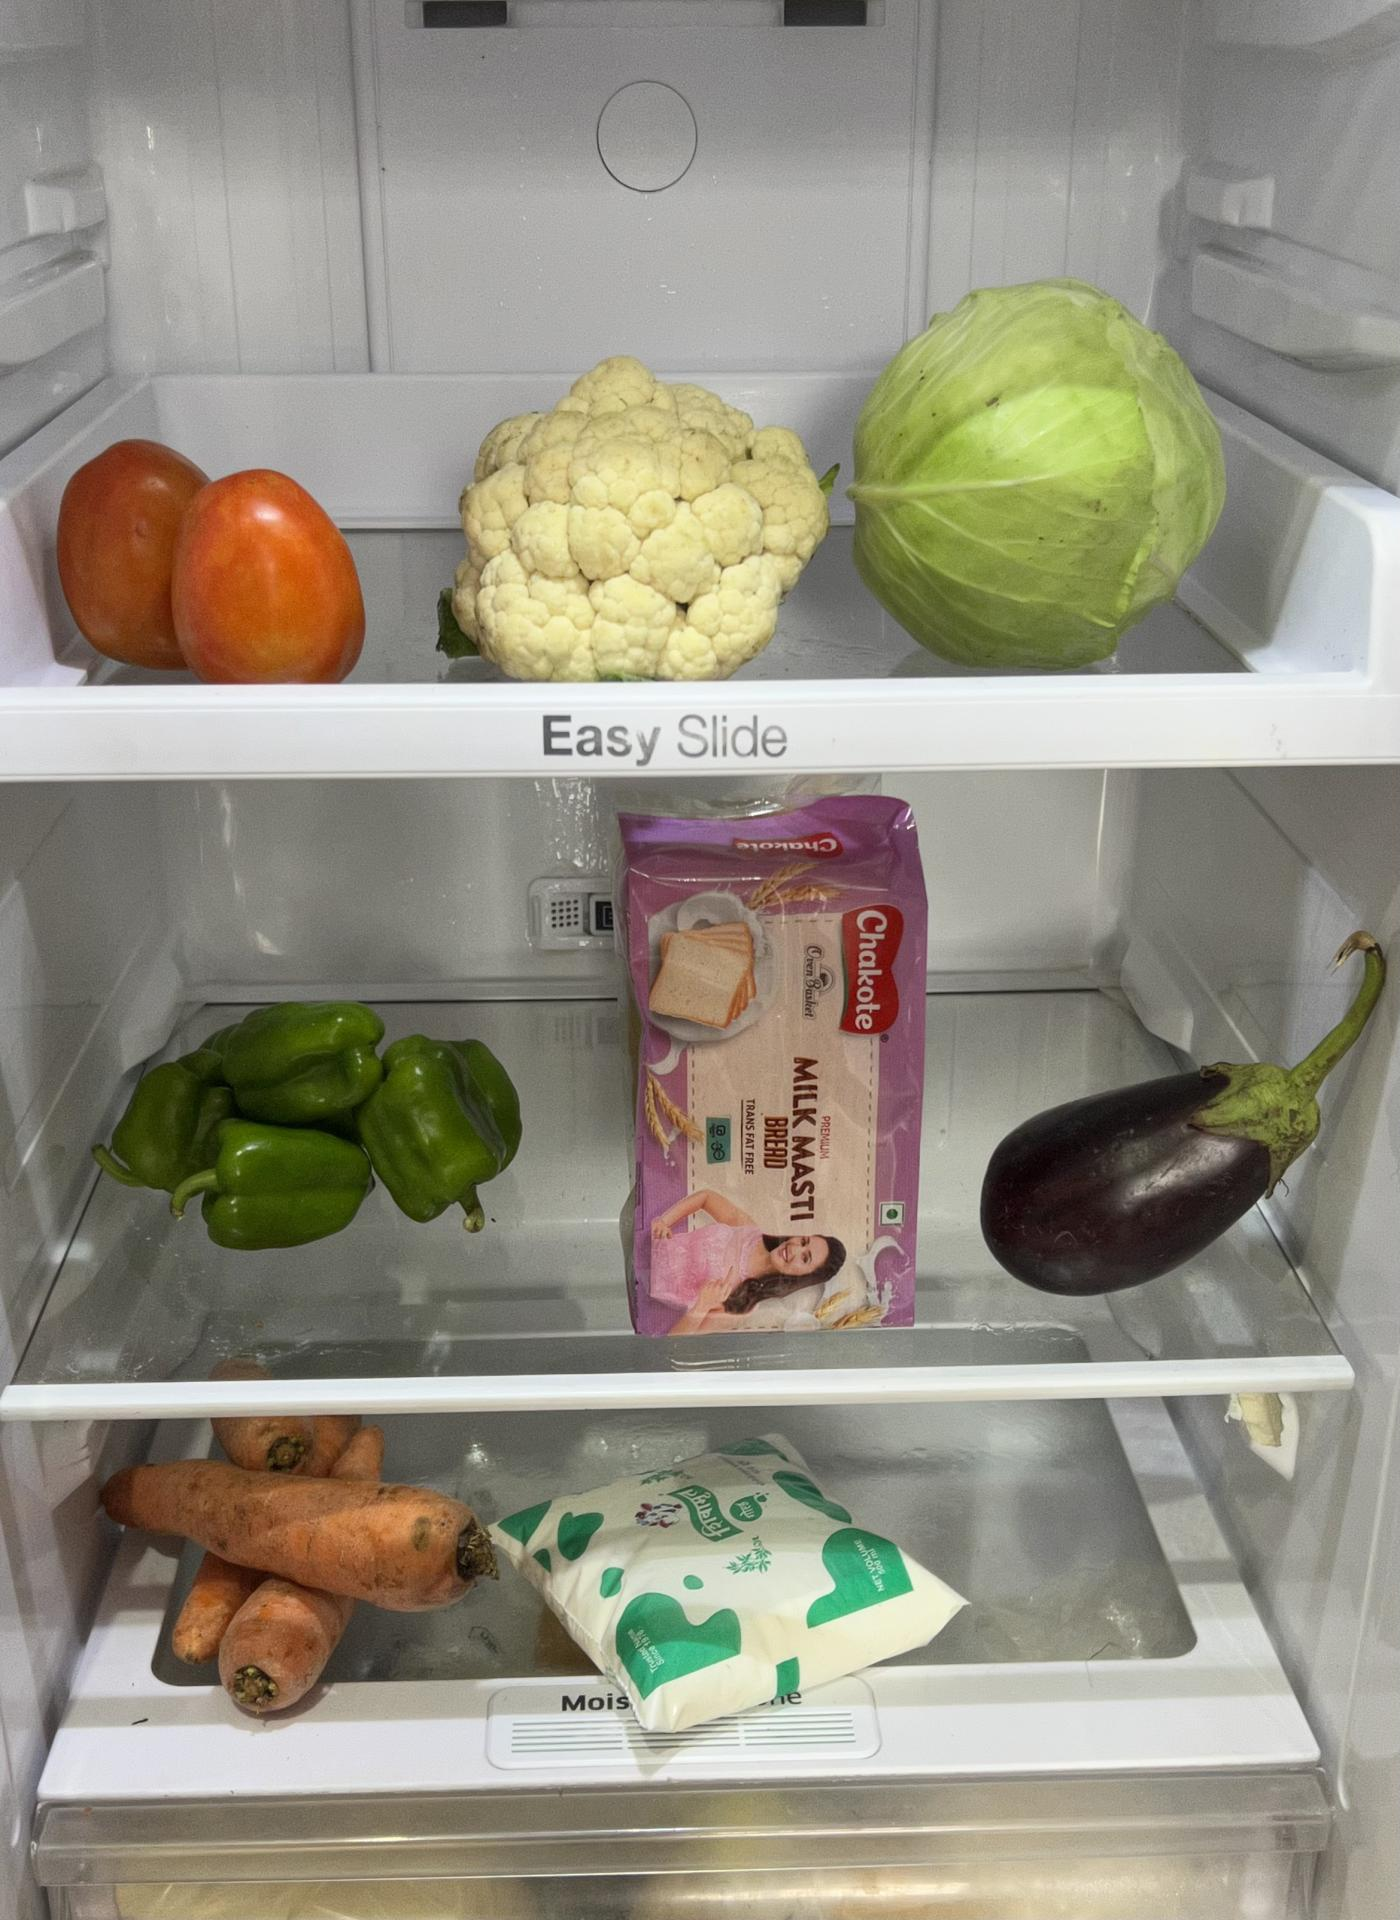bread: (607, 796, 930, 1361)
cabbage: (857, 285, 1221, 641)
capsicum: (103, 999, 516, 1245)
carrots: (109, 1416, 502, 1708)
cauliflower: (438, 365, 829, 675)
milk: (528, 1418, 956, 1734)
tomato: (58, 428, 359, 690)
